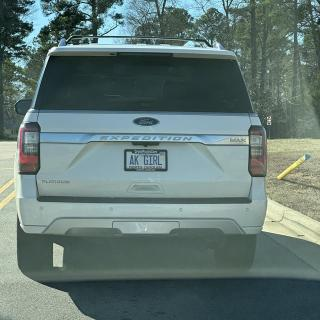license: (125, 150, 169, 173)
